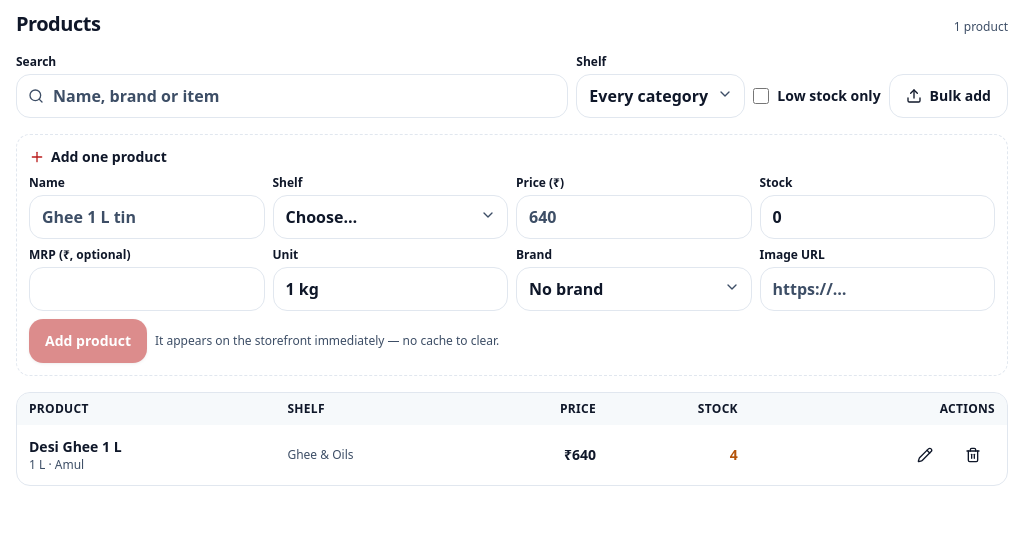
Test: AdminProductsPage › says that a product in an order was hidden, not deleted
The image size is (1025, 559).
Click the button named "delete desi ghee 1 l" at coordinates (973, 455), box [951,433,995,477]
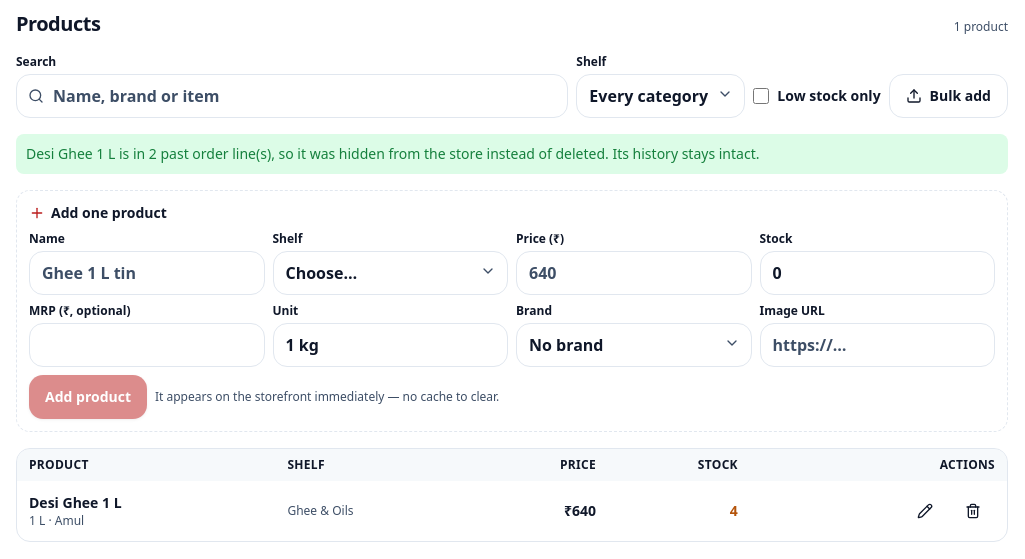
Check: the text "hidden from the store instead of deleted" is shown, box [26,144,760,163]
